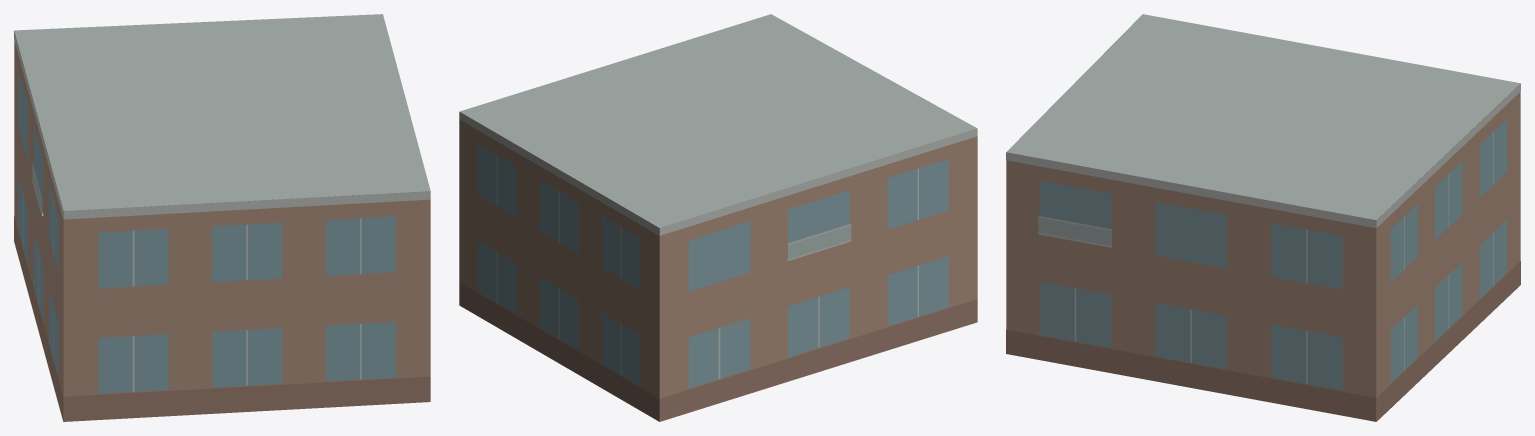
The model's file is survey-upis-33020984.glb.
3 views of the same model, side by side, from view 1: azimuth 30°, elevation 25°; view 2: azimuth 150°, elevation 25°; view 3: azimuth 270°, elevation 25° (orthographic). The views are drawn at different scales.
Visible parts, largest first — view 1: survey-upis-33020984.tmp; view 2: survey-upis-33020984.tmp; view 3: survey-upis-33020984.tmp.
Part boxes in pixels (x1,y1,x2,y2): survey-upis-33020984.tmp: (14, 14, 430, 421); survey-upis-33020984.tmp: (459, 14, 977, 421); survey-upis-33020984.tmp: (1006, 14, 1520, 421).
Size of the model in its own units: 13.39 by 6.1 by 14.12.
